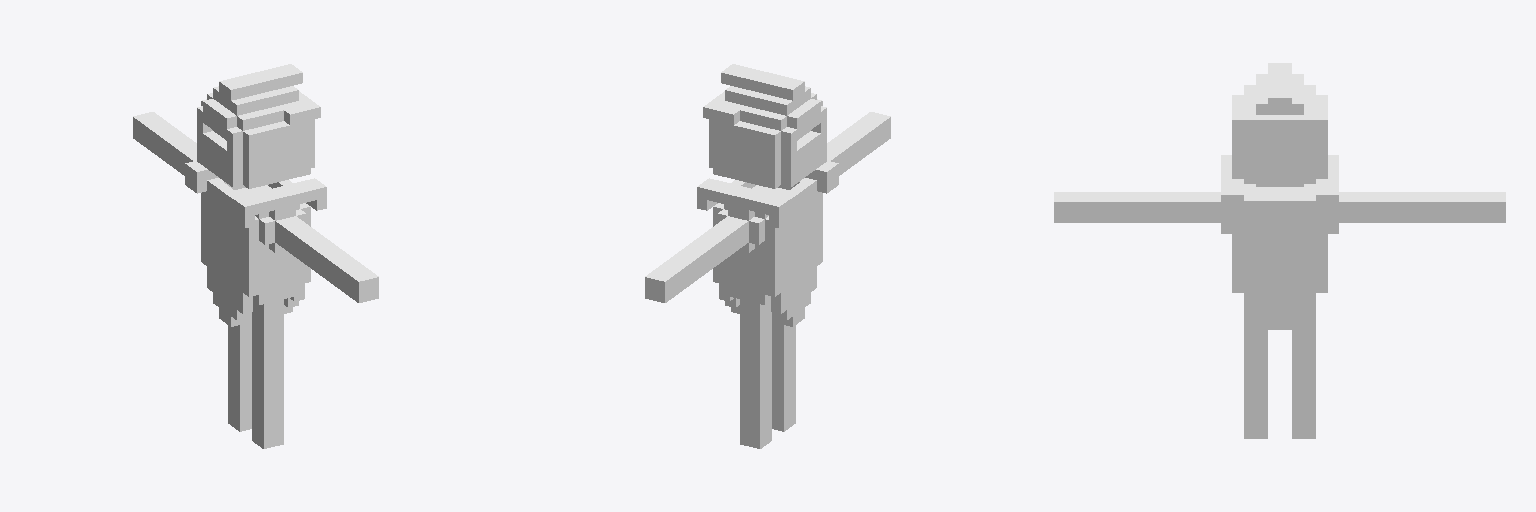
Rendered from PlayerARPGArmorTest.obj.
The picture shows the model from 3 angles: view 1: azimuth 30°, elevation 25°; view 2: azimuth 150°, elevation 25°; view 3: azimuth 270°, elevation 25°; orthographic projection.
Visible parts, largest first — view 1: object 1; view 2: object 1; view 3: object 1.
Part boxes in pixels (x1,y1,x2,y2): object 1: (133,64,378,448); object 1: (645,64,890,448); object 1: (1054,63,1505,438).
Size of the model in its own units: 0.8 by 3.3 by 3.8.